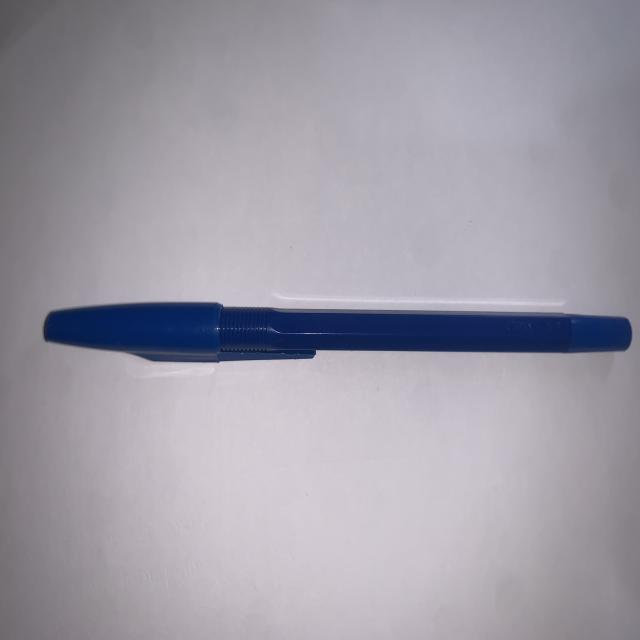Pulpen: (34, 298, 635, 369)
